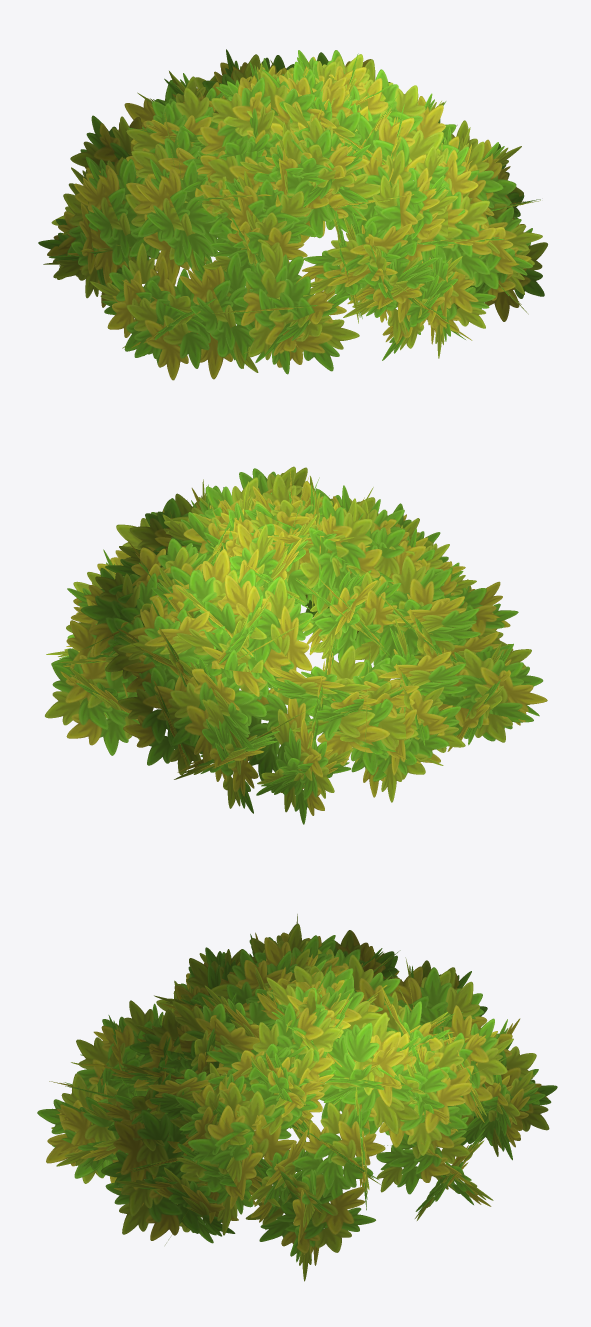
Rendered from FBX_Bush_Large_01.fbx.
3 renders of one model, top to bottom at view 1: azimuth 30°, elevation 25°; view 2: azimuth 150°, elevation 25°; view 3: azimuth 270°, elevation 25°, orthographic.
Visible parts, largest first — view 1: Bush Big01; view 2: Bush Big01; view 3: Bush Big01.
Boxes of the visible parts, x1,y1,x2,y2 form: Bush Big01: (38,49,547,380); Bush Big01: (45,466,547,824); Bush Big01: (37,914,557,1281).
Bounding box in the file's own units: 666 × 392 × 664.
